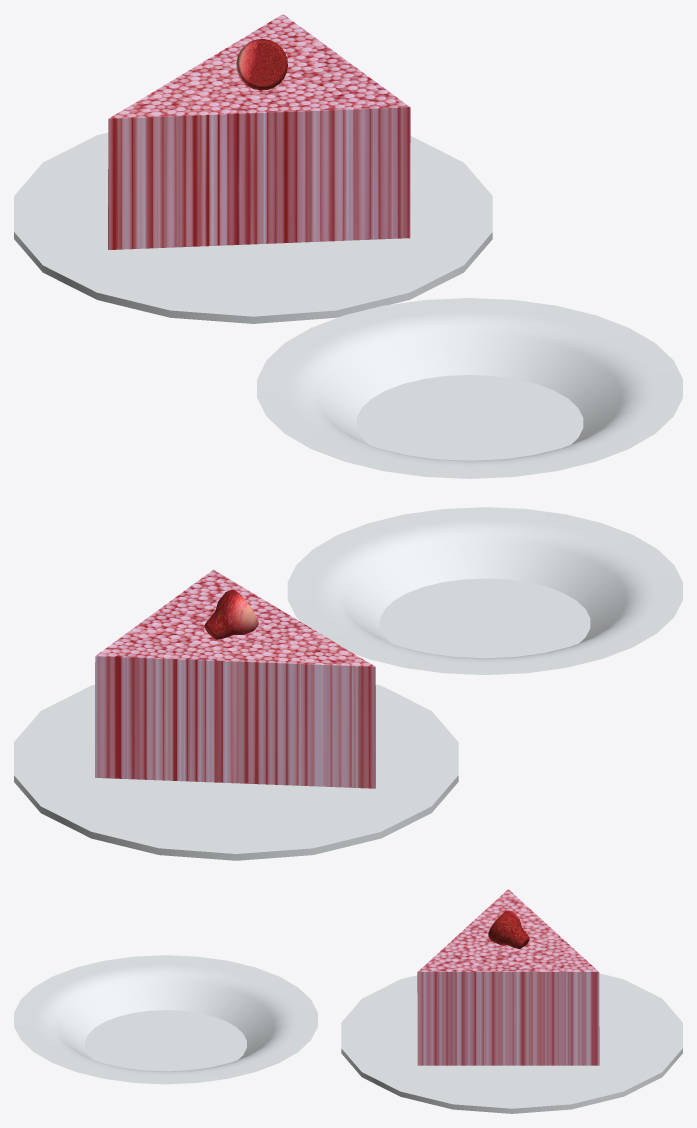
File: cakeSlice+2xPlates+strawberry.obj
3 renders of one model, top to bottom at view 1: azimuth 30°, elevation 25°; view 2: azimuth 150°, elevation 25°; view 3: azimuth 270°, elevation 25°, orthographic. The views are drawn at different scales.
Visible parts, largest first — view 1: nonWorkingPlate, cakeSlice, plate, strawberry; view 2: nonWorkingPlate, cakeSlice, plate, strawberry; view 3: nonWorkingPlate, cakeSlice, plate, strawberry.
Boxes of the visible parts, x1,y1,x2,y2 form: nonWorkingPlate: [257, 298, 682, 478]; cakeSlice: [108, 14, 410, 249]; plate: [14, 132, 492, 323]; strawberry: [236, 39, 287, 90]; nonWorkingPlate: [287, 507, 682, 674]; cakeSlice: [95, 569, 375, 788]; plate: [14, 684, 458, 860]; strawberry: [204, 590, 258, 639]; nonWorkingPlate: [14, 955, 317, 1084]; cakeSlice: [417, 889, 599, 1065]; plate: [341, 973, 682, 1113]; strawberry: [488, 910, 529, 948].
Size of the model in its own units: 31.95 by 14.51 by 61.48.
Materials: 4 (4 with a texture image).
